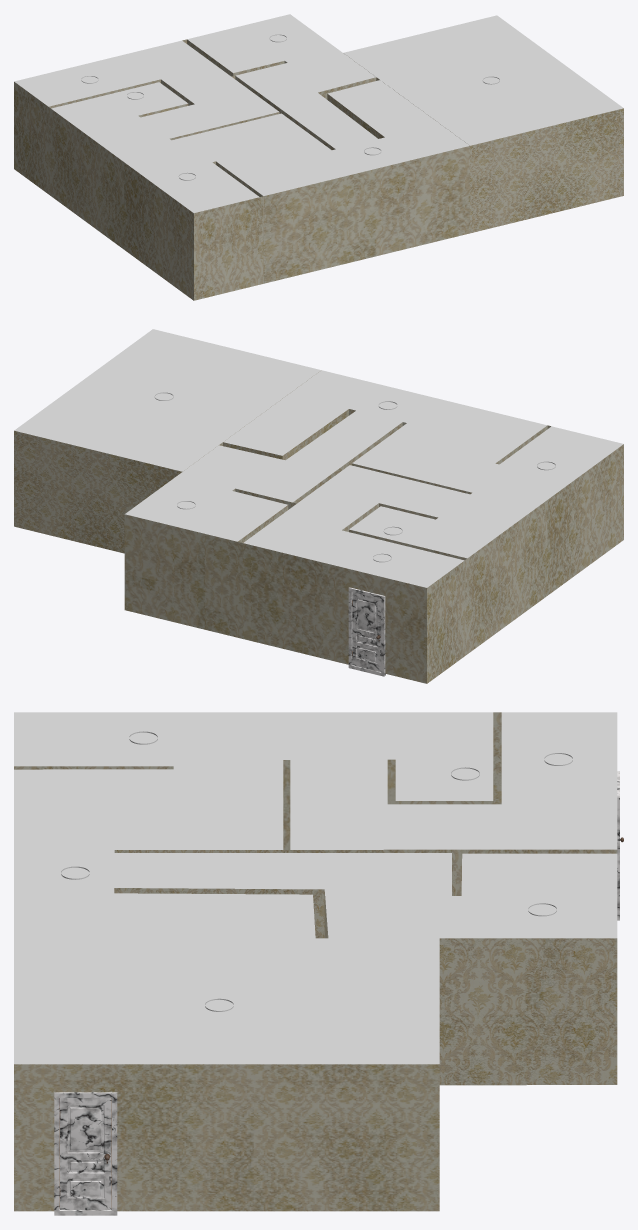
File: 1-2 комнаты.fbx
3 renders of one model, top to bottom at view 1: azimuth 30°, elevation 25°; view 2: azimuth 150°, elevation 25°; view 3: azimuth 270°, elevation 25°, orthographic. The views are drawn at different scales.
Parts seen in each view (by area): view 1: Plane_016, Plane_015; view 2: Plane_016, Plane_015, doorBoard_004, BaseB_004; view 3: Plane_016, Plane_015, doorBoard_003, BaseB_003.
Boxes of the visible parts, <box> form: Plane_016: <box>14,14,469,300</box>; Plane_015: <box>343,15,623,233</box>; Plane_016: <box>124,370,623,683</box>; Plane_015: <box>14,329,321,553</box>; doorBoard_004: <box>352,592,381,671</box>; BaseB_004: <box>348,587,385,676</box>; Plane_016: <box>14,712,617,1085</box>; Plane_015: <box>14,938,439,1211</box>; doorBoard_003: <box>60,1098,111,1209</box>; BaseB_003: <box>54,1092,117,1215</box>.
Size of the model in its own units: 1418 by 282 by 1031.
